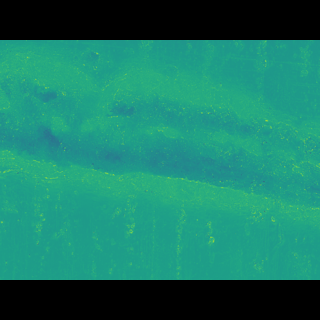Loch: (0, 75, 320, 209)
